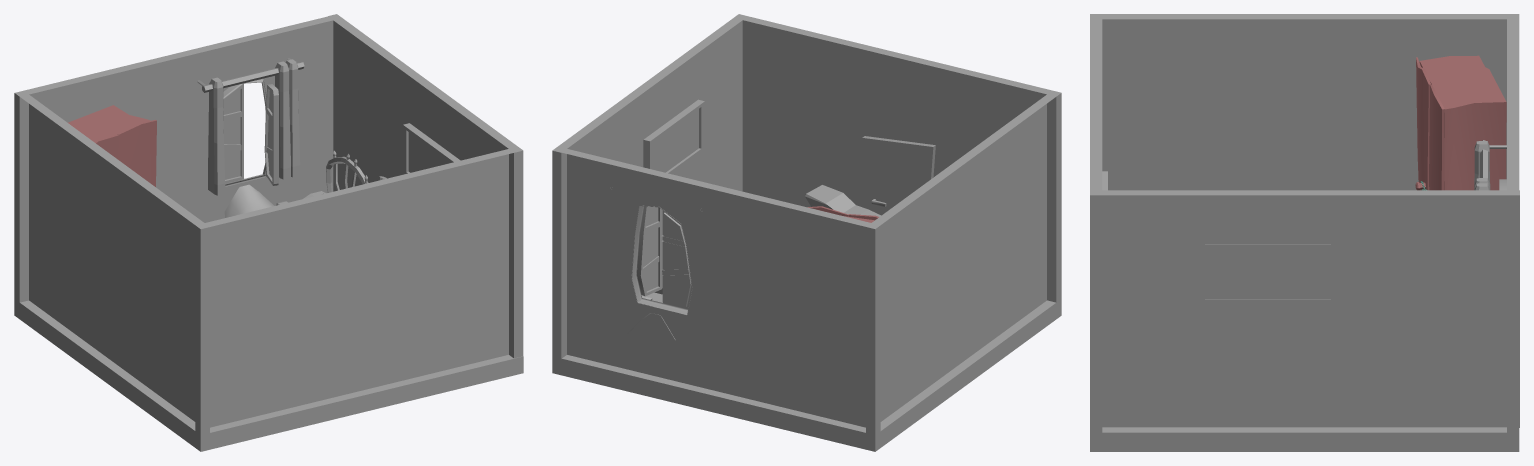
The model's file is Taverne_chambre_bordel.fbx.
3 renders of one model, left to right at view 1: azimuth 30°, elevation 25°; view 2: azimuth 150°, elevation 25°; view 3: azimuth 270°, elevation 25°, orthographic. The views are drawn at different scales.
Visible parts, largest first — view 1: mur_front2, mur_left2, mur_back2, mur_right2, sol2, armoire_porte_R, Rideau2, fenetre11, tableau, armoire, Rideau1, fenetre17 (+4 smaller); view 2: mur_back2, mur_left2, mur_front2, mur_right2, sol2, porte_R5, tableau, fenetre11, fenetre17, fauteuil, fenetre15; view 3: mur_right2, mur_left2, sol2, armoire, mur_back2, mur_front2, armoire_porte_L, armoire_porte_R.
Part boxes in pixels (<box>): mur_front2: <box>195,146,522,434</box>; mur_left2: <box>15,90,209,434</box>; mur_back2: <box>14,14,341,302</box>; mur_right2: <box>328,14,523,358</box>; sol2: <box>14,299,523,451</box>; armoire_porte_R: <box>117,119,156,186</box>; Rideau2: <box>208,77,225,195</box>; fenetre11: <box>223,84,243,183</box>; tableau: <box>403,123,460,173</box>; armoire: <box>68,105,150,142</box>; Rideau1: <box>275,61,290,179</box>; fenetre17: <box>264,84,278,185</box>; mur_back2: <box>553,146,880,434</box>; mur_left2: <box>866,94,1055,435</box>; mur_front2: <box>734,14,1061,302</box>; mur_right2: <box>552,18,742,358</box>; sol2: <box>552,299,1061,451</box>; porte_R5: <box>862,136,935,215</box>; tableau: <box>643,99,704,173</box>; fenetre11: <box>661,210,691,309</box>; fenetre17: <box>637,206,662,296</box>; fauteuil: <box>805,185,881,216</box>; fenetre15: <box>631,205,692,314</box>; mur_right2: <box>1102,190,1519,427</box>; mur_left2: <box>1090,14,1519,190</box>; sol2: <box>1090,427,1519,451</box>; armoire: <box>1419,55,1506,190</box>; mur_back2: <box>1507,14,1519,432</box>; mur_front2: <box>1090,19,1102,432</box>; armoire_porte_L: <box>1415,57,1430,190</box>; armoire_porte_R: <box>1429,84,1444,190</box>.
Size of the model in its own units: 532 by 351 by 532.
